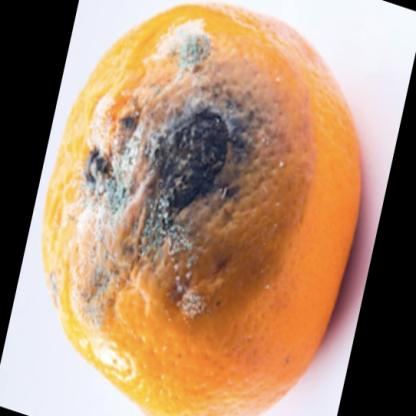rotten: (42, 6, 363, 413)
